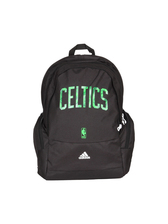bag: (29, 44, 148, 183)
